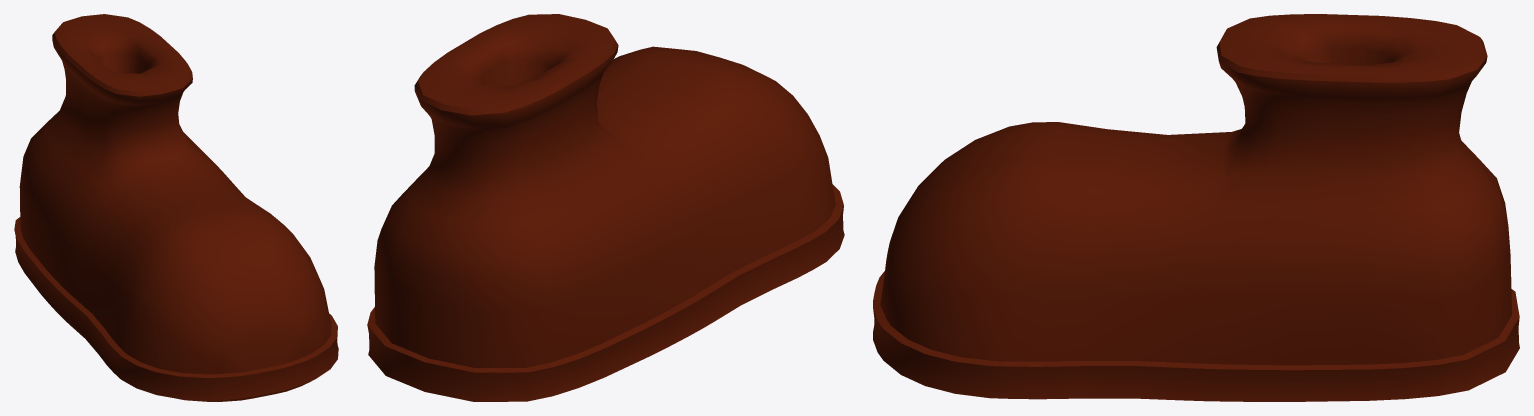
The model's file is Right_Foot.FBX.
3 renders of one model, left to right at view 1: azimuth 30°, elevation 25°; view 2: azimuth 150°, elevation 25°; view 3: azimuth 270°, elevation 25°, orthographic. The views are drawn at different scales.
Visible parts, largest first — view 1: Right Foot; view 2: Right Foot; view 3: Right Foot.
Part boxes in pixels (<box>): Right Foot: <box>14,14,338,401</box>; Right Foot: <box>367,14,844,401</box>; Right Foot: <box>873,14,1519,401</box>.
Size of the model in its own units: 11.07 by 11.06 by 21.34.
